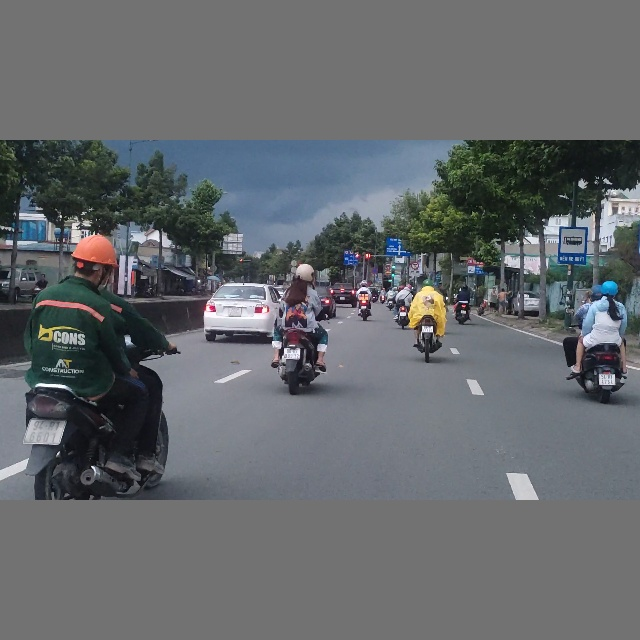I.434a: (559, 226, 586, 264)
P.137: (411, 261, 419, 269)
R.415a: (344, 254, 359, 265)
